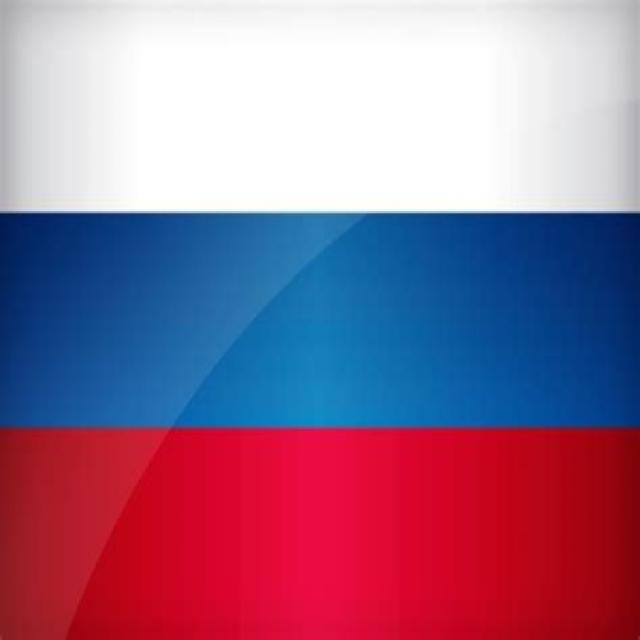russia: (0, 5, 612, 640)
